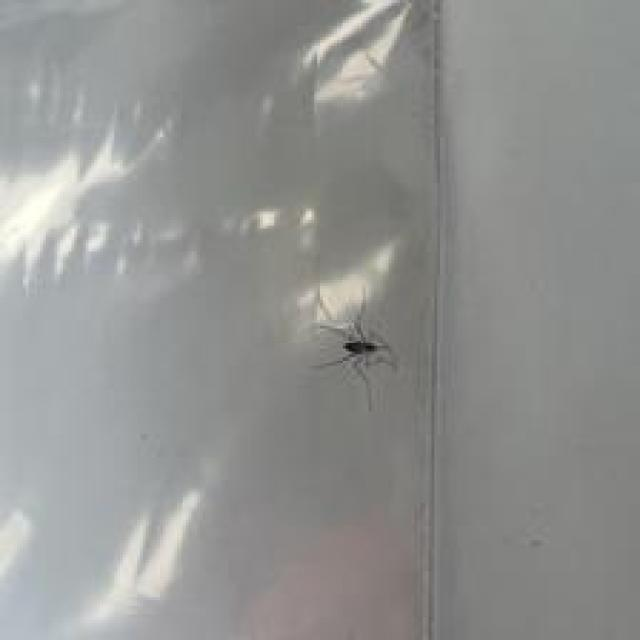Aedes albopictus: (307, 286, 399, 411)
